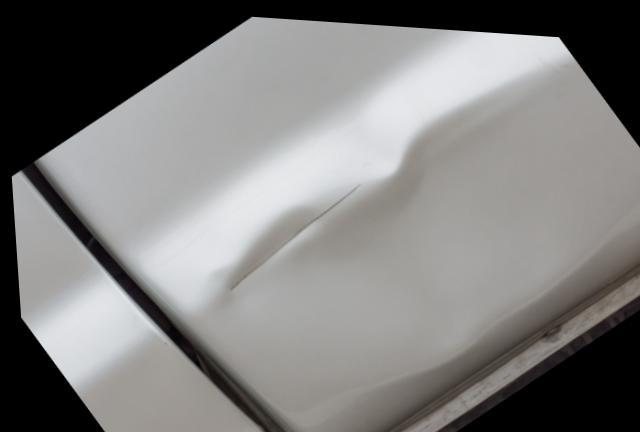dent: (223, 55, 604, 364)
